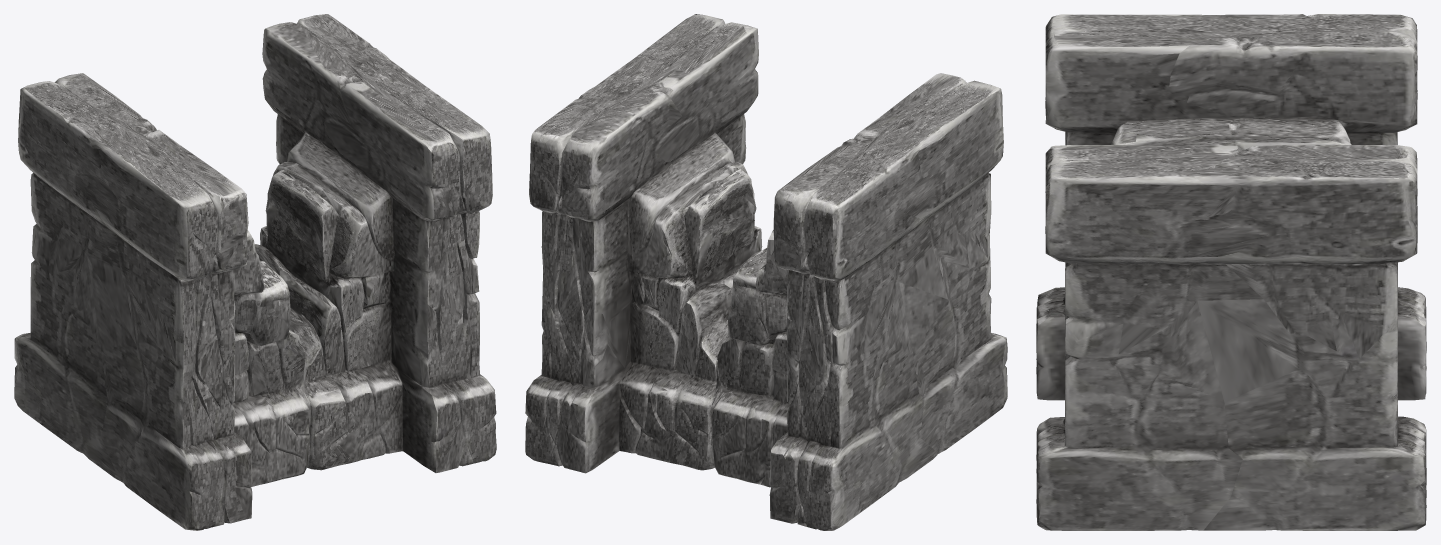
Rendered from crown-high.glb.
The picture shows the model from 3 angles, left to right: view 1: azimuth 30°, elevation 25°; view 2: azimuth 150°, elevation 25°; view 3: azimuth 270°, elevation 25°; orthographic projection. The views are drawn at different scales.
Parts seen in each view (by area): view 1: crown-high; view 2: crown-high; view 3: crown-high.
Part boxes in pixels (<box>): crown-high: <box>14,14,496,530</box>; crown-high: <box>525,14,1007,530</box>; crown-high: <box>1036,14,1426,530</box>.
Bounding box in the file's own units: 1 × 1 × 1.
1 material, 1 textured.
